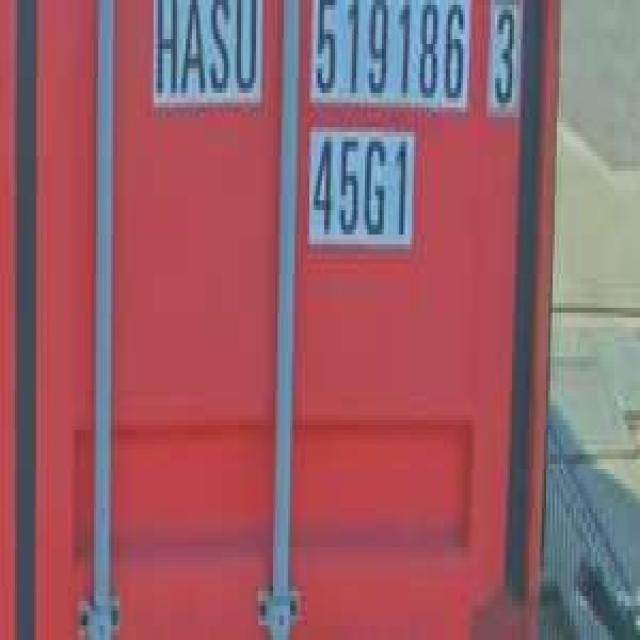dv: (486, 0, 520, 112)
owner: (147, 0, 264, 112)
serial: (309, 0, 469, 107)
size: (303, 122, 414, 249)
